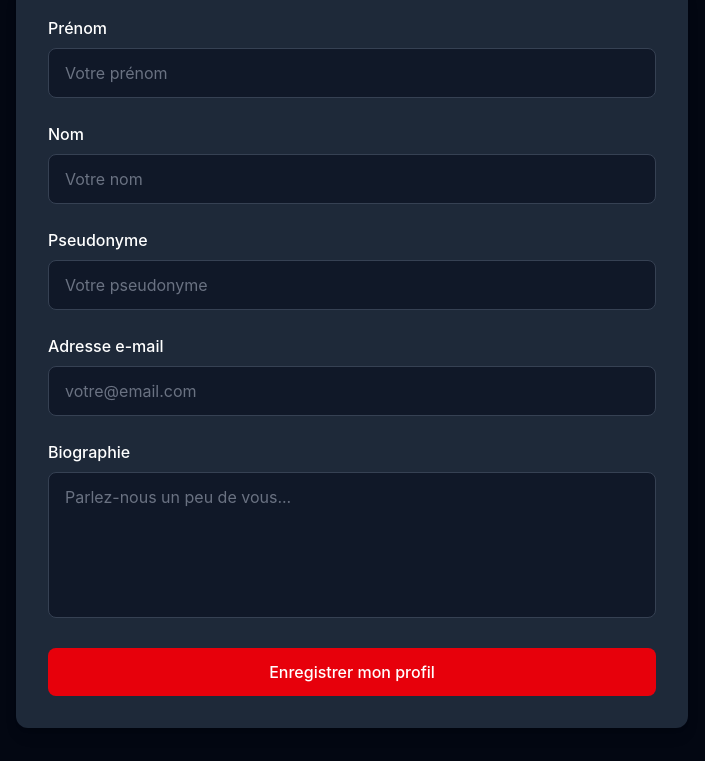
Test: Profile › affiche les erreurs des champs obligatoires
This screenshot has width=705, height=761.
(page scrolled)
Step 1. Click the button "Enregistrer mon profil" → (352,672), box [48,648,656,696]
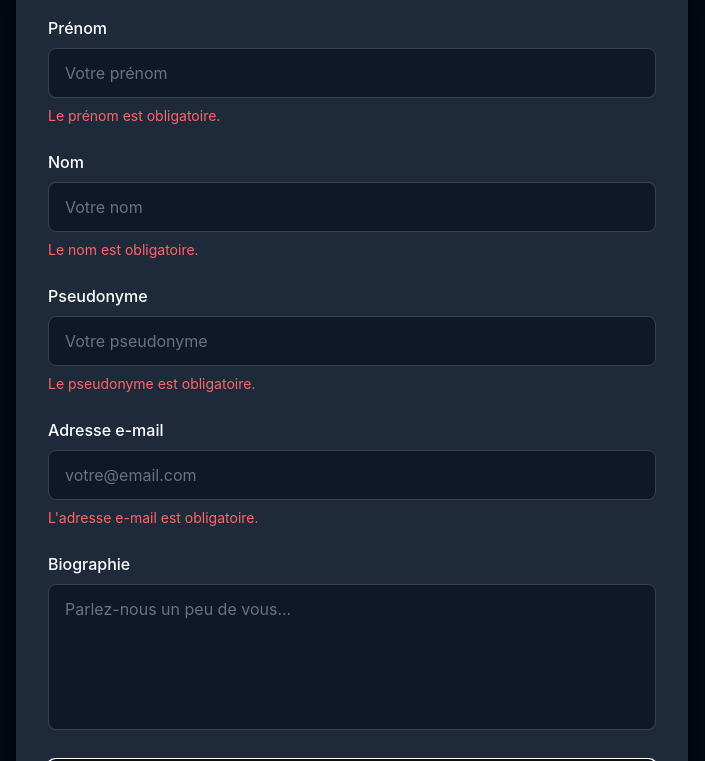
Expected: the text "Le prénom est obligatoire." is shown, [48,107,220,124]
Expected: the text "Le nom est obligatoire." is shown, [48,241,199,258]
Expected: the text "Le pseudonyme est obligatoire." is shown, [48,375,255,392]
